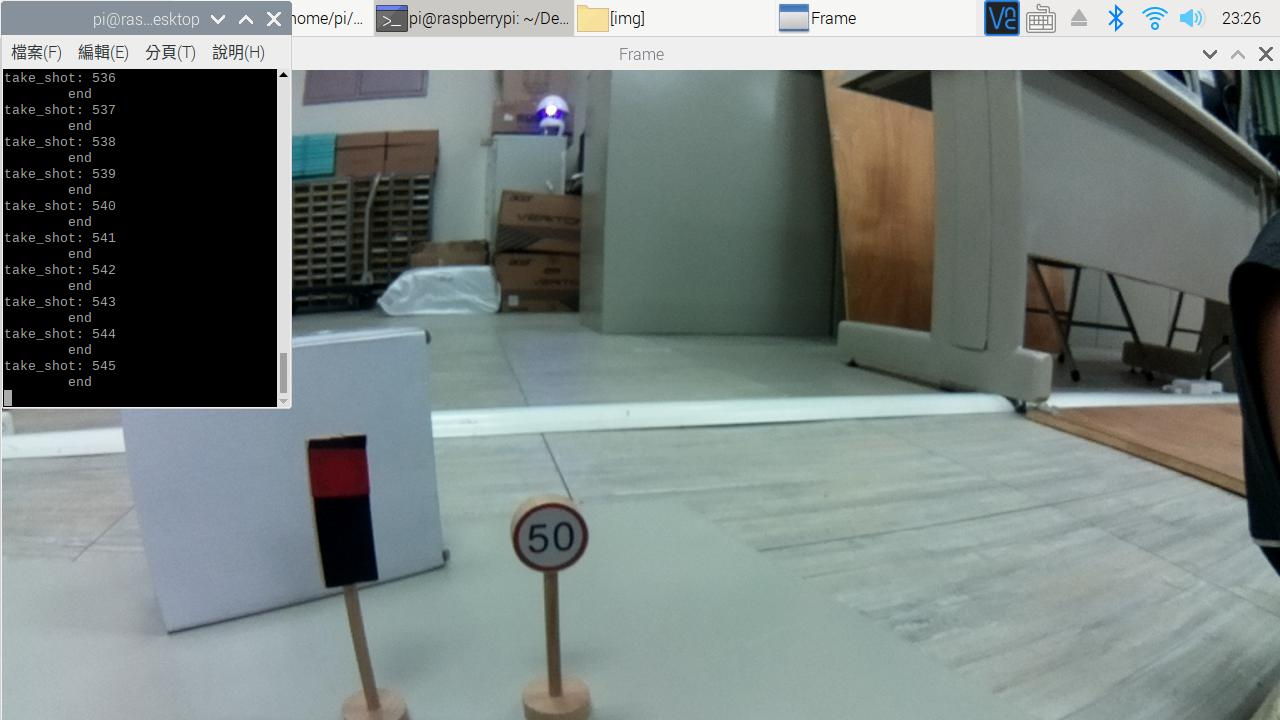Red: (290, 429, 392, 596)
Speed50: (503, 491, 604, 582)
